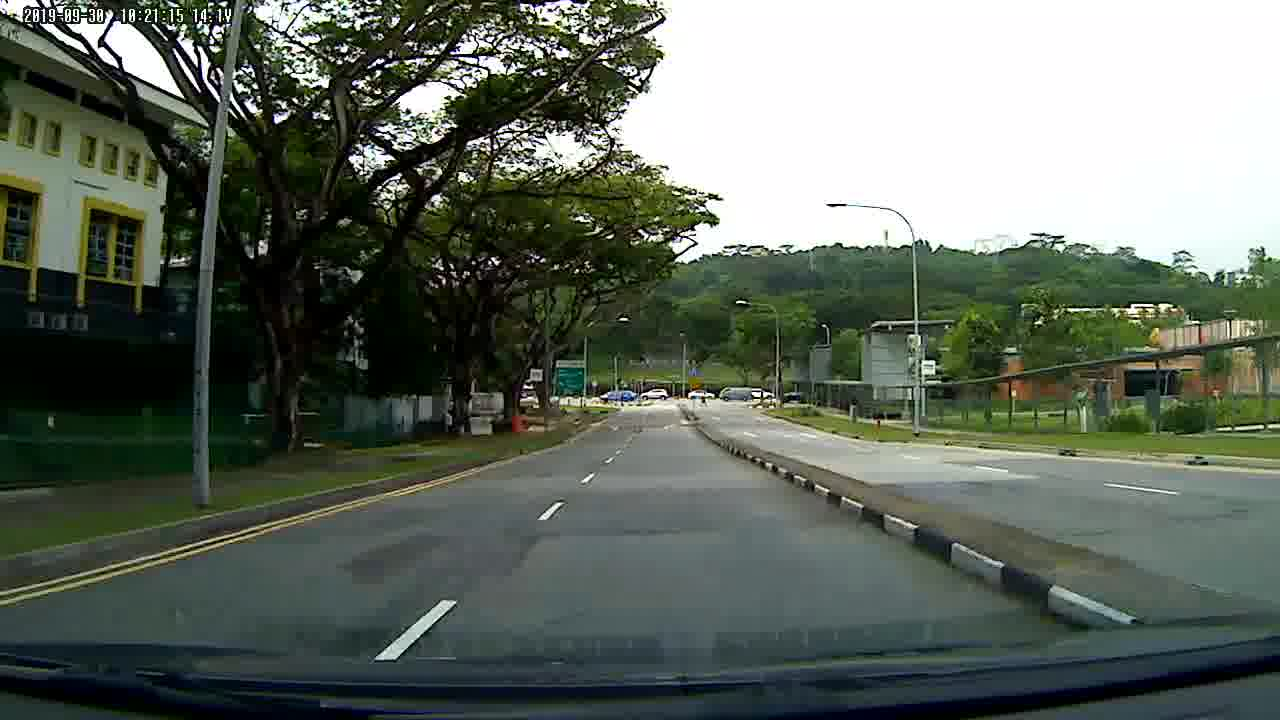car: (599, 388, 638, 401), (686, 387, 716, 403), (640, 386, 669, 400)
